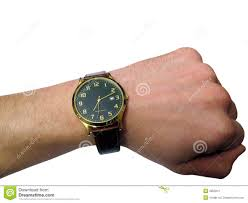clock: (74, 78, 125, 123)
